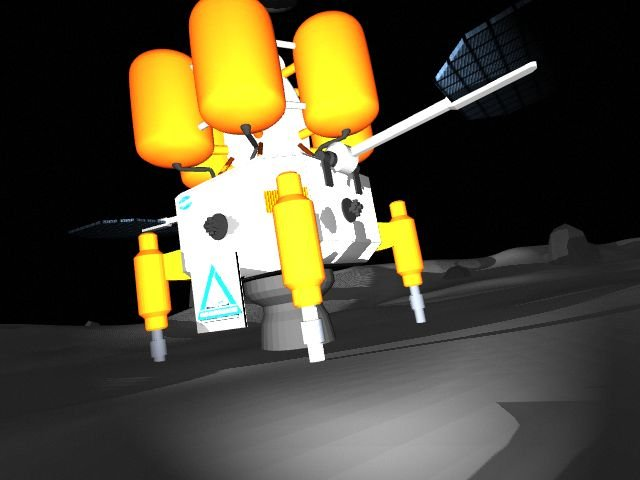basemarker: (197, 265, 244, 322)
